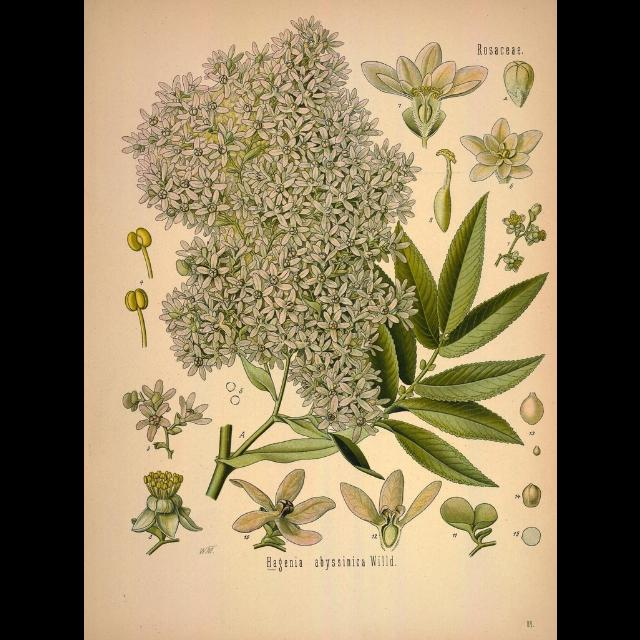Flower: (117, 12, 419, 446), (228, 466, 336, 548), (359, 42, 489, 98), (338, 470, 440, 530), (460, 119, 544, 181), (134, 404, 170, 444), (178, 389, 212, 426), (140, 379, 177, 411), (524, 222, 550, 246), (502, 210, 524, 236), (503, 251, 527, 271)
